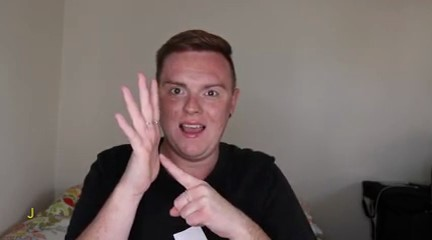J: (110, 69, 239, 240)
